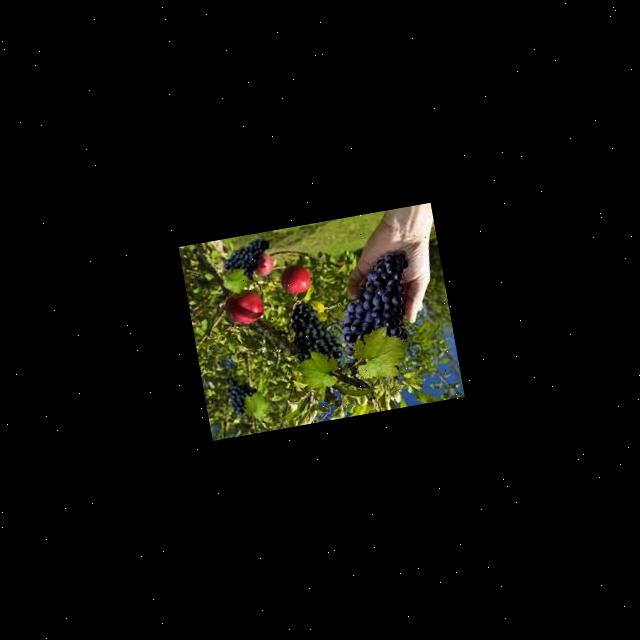grape: (328, 248, 421, 356), (283, 296, 346, 372), (220, 236, 274, 284), (224, 374, 260, 416)
